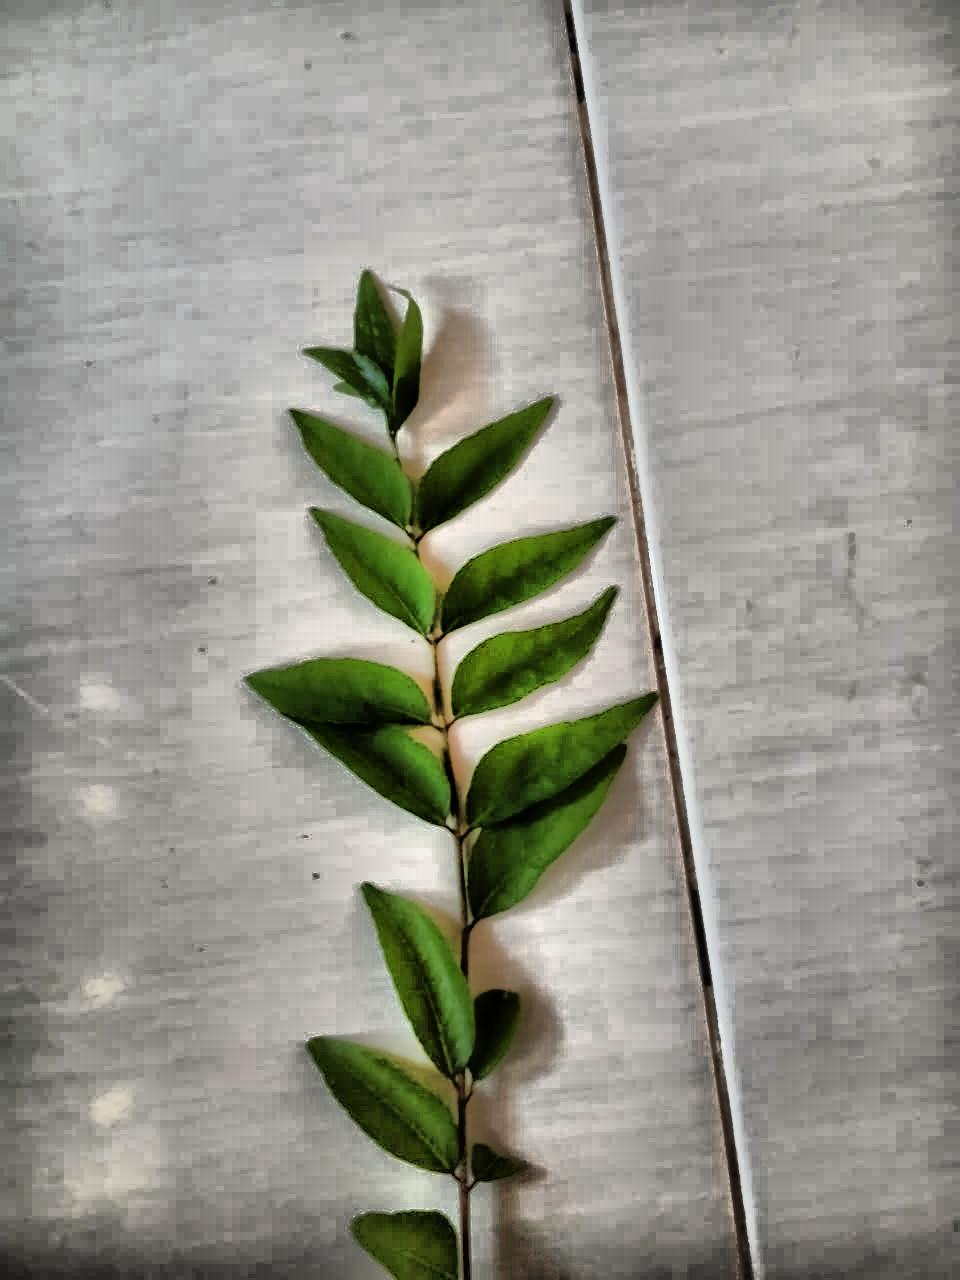daun kari: (247, 281, 657, 1279)
